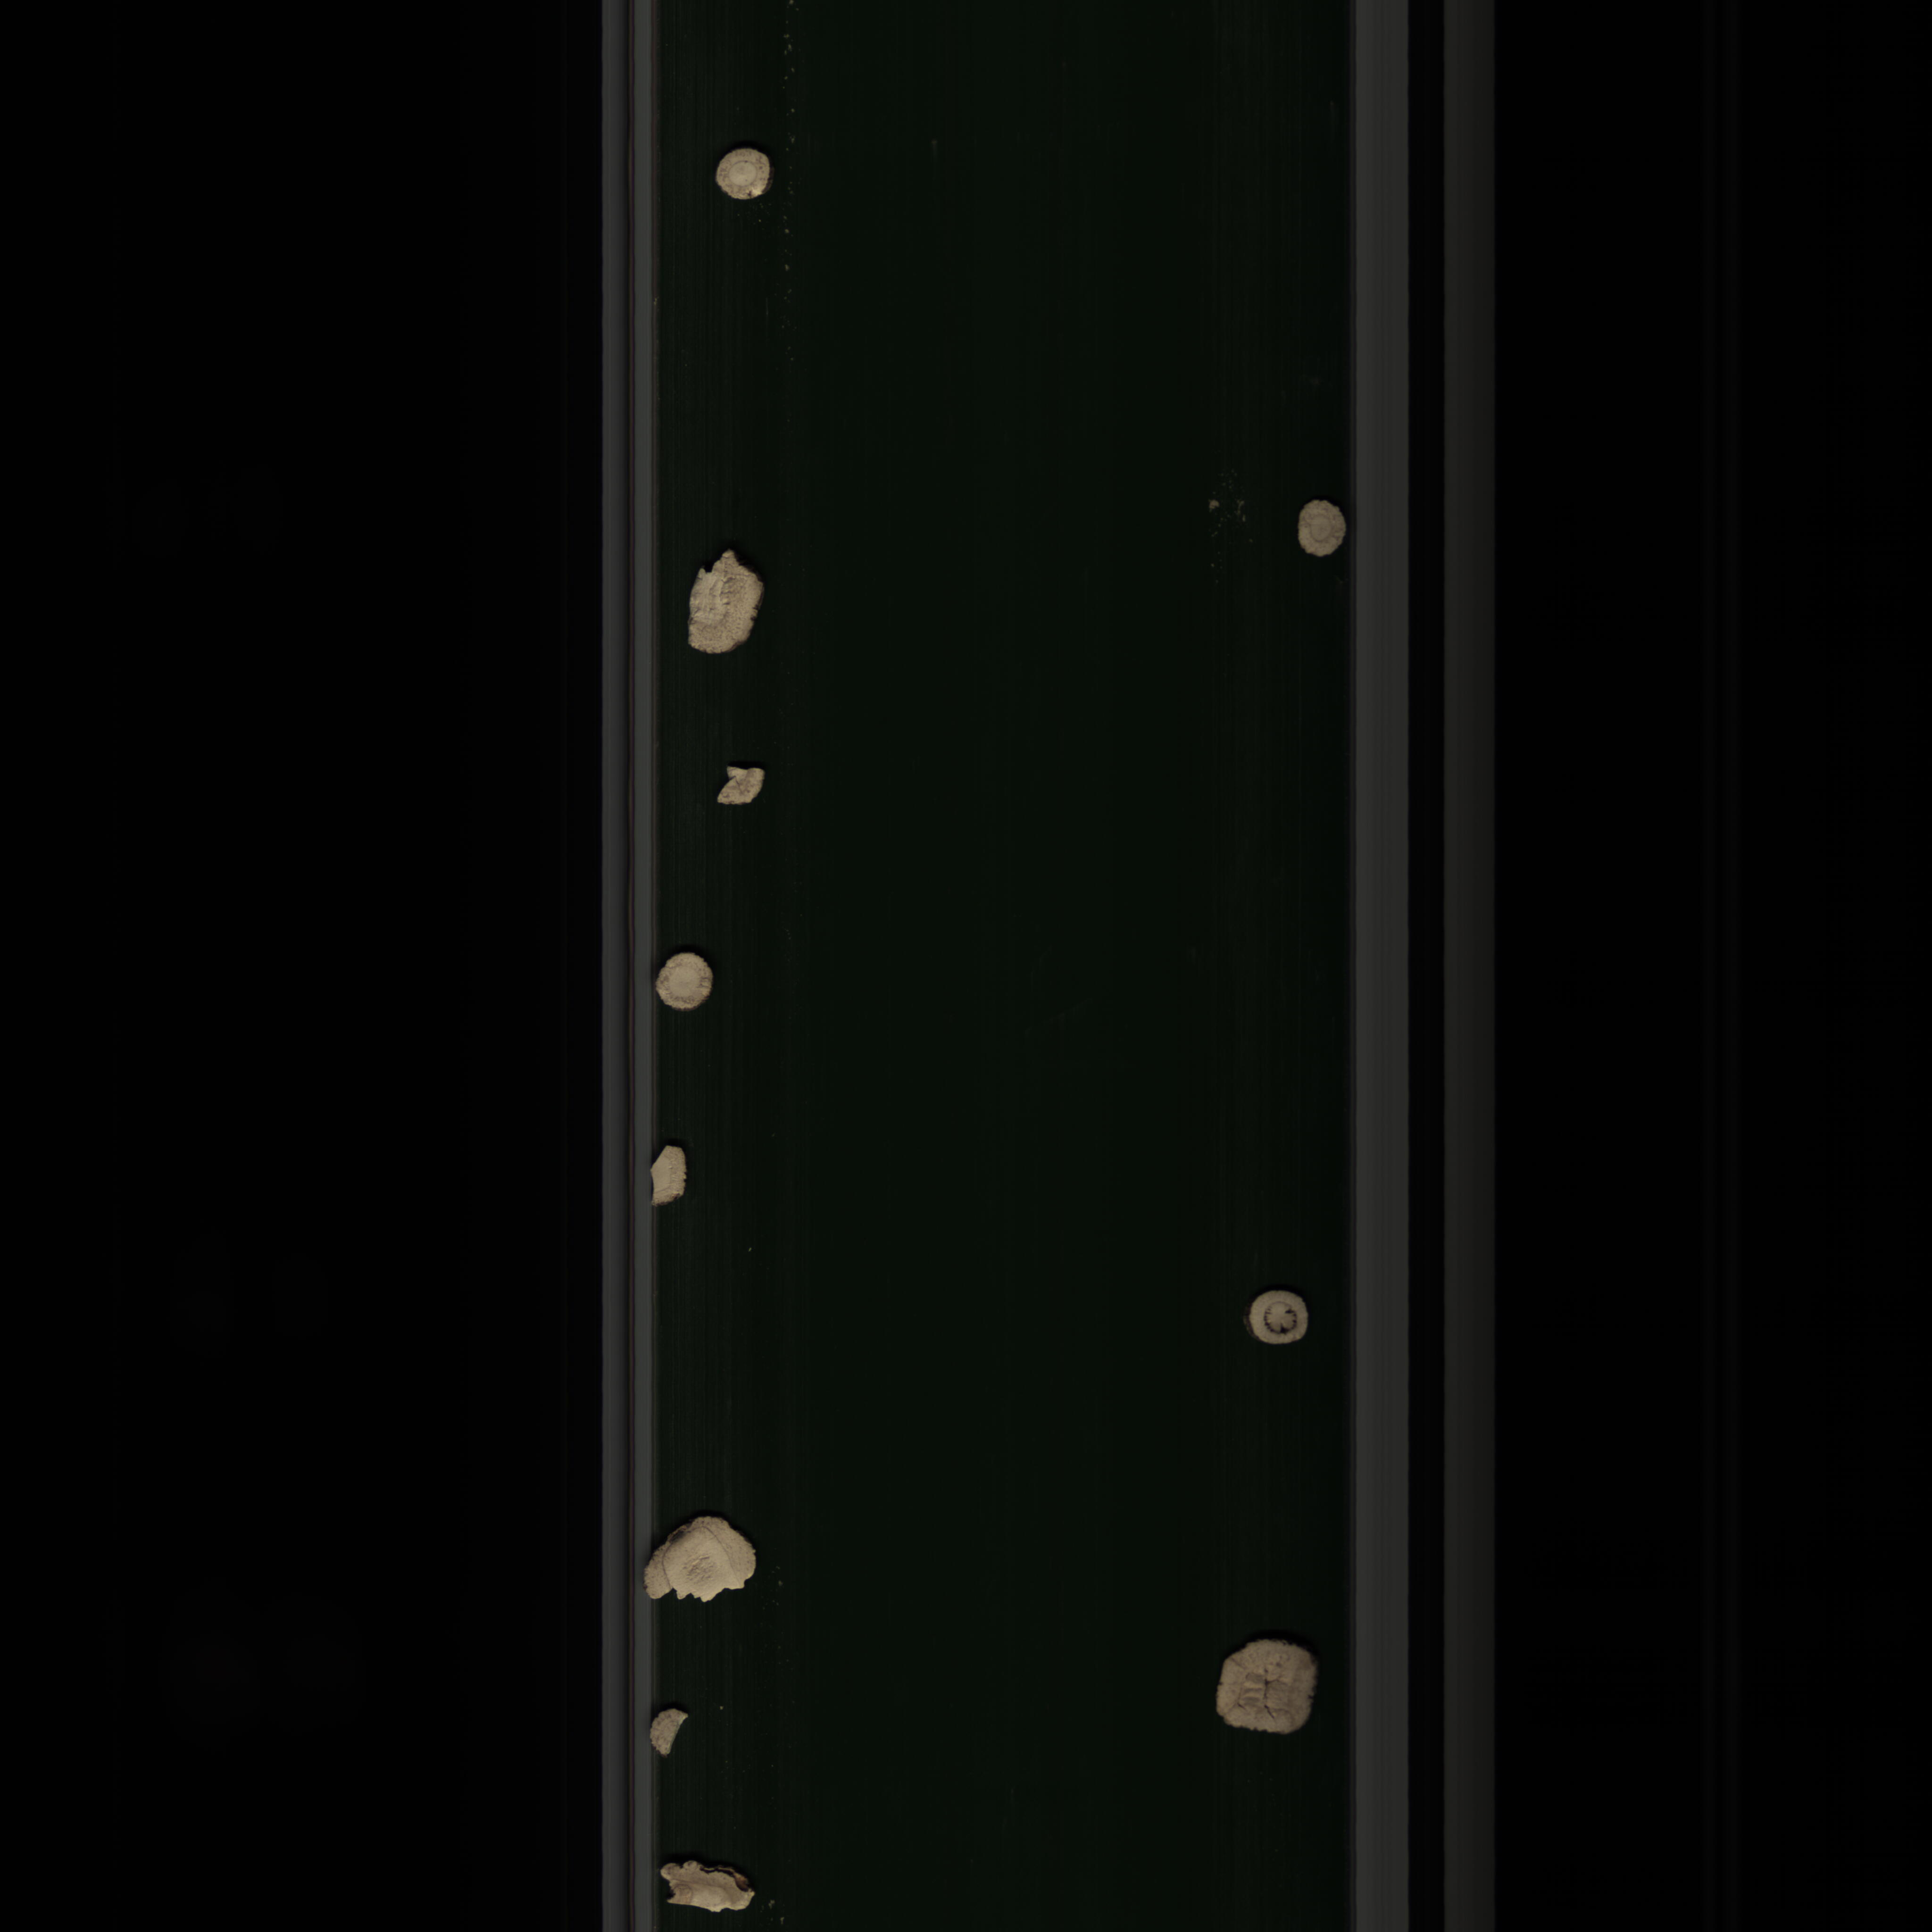bark: (655, 1854, 755, 1918)
debris: (639, 1509, 773, 1617), (676, 538, 775, 678), (642, 1136, 701, 1221), (713, 763, 773, 810), (646, 1709, 697, 1762)
moldy: (1210, 1631, 1332, 1746), (1237, 1281, 1320, 1350)
